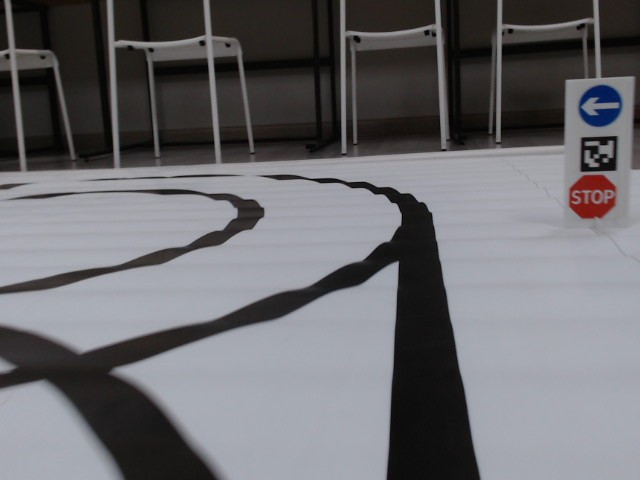Stop: (568, 174, 619, 218)
